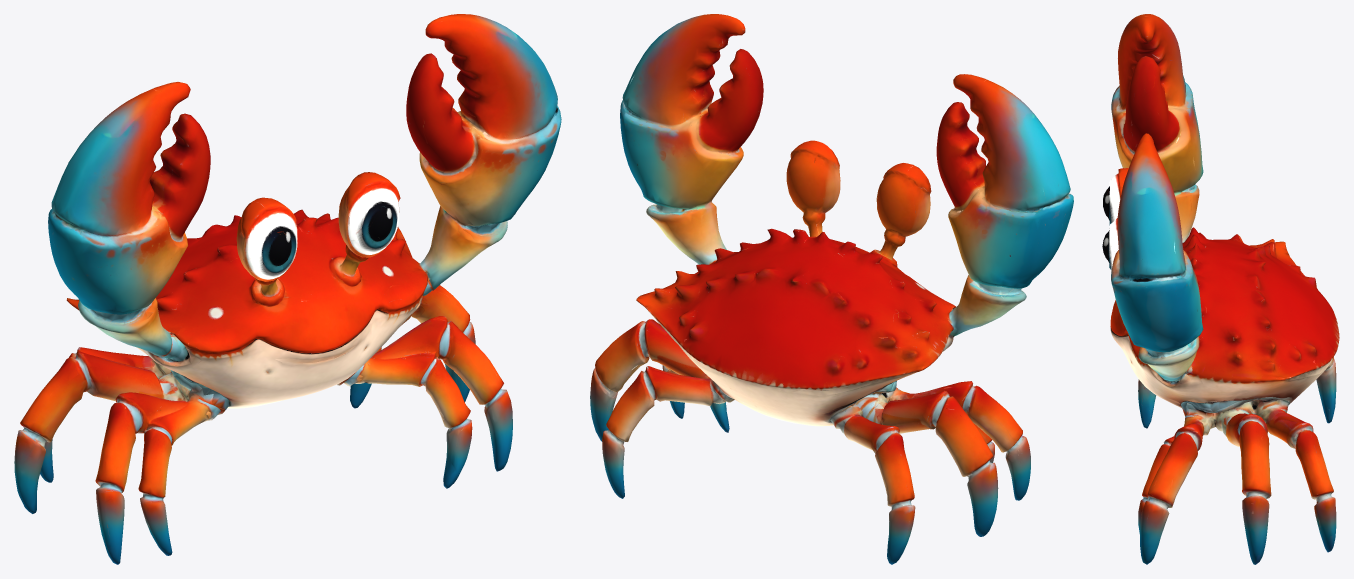
File: crab_v2.glb
3 views of the same model, side by side, from view 1: azimuth 30°, elevation 25°; view 2: azimuth 150°, elevation 25°; view 3: azimuth 270°, elevation 25° (orthographic). The views are drawn at different scales.
Parts seen in each view (by area): view 1: Mesh_0; view 2: Mesh_0; view 3: Mesh_0.
Part boxes in pixels (x1,y1,x2,y2): Mesh_0: (14,14,561,564); Mesh_0: (590,14,1073,564); Mesh_0: (1102,14,1339,564).
Bounding box in the file's own units: 1.6 × 1.44 × 0.7556.
1 material, 1 textured.
